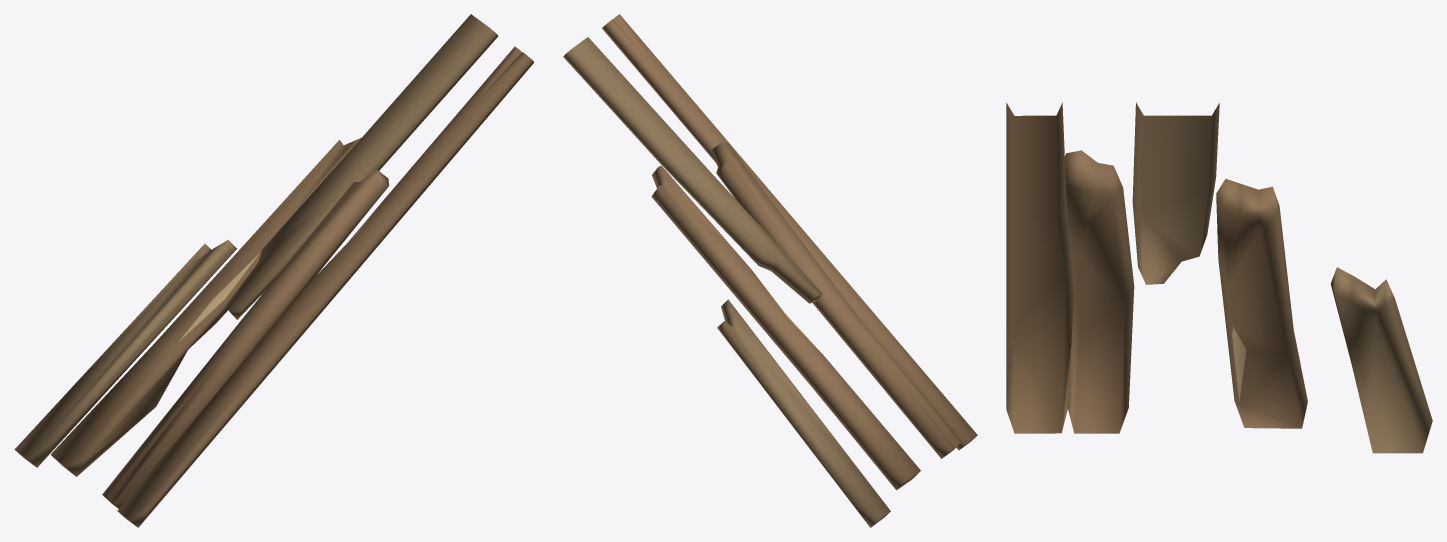
File: rpgpp_av_roof_02_9x4x3_half_d.gltf
The picture shows the model from 3 angles, left to right: view 1: azimuth 30°, elevation 25°; view 2: azimuth 150°, elevation 25°; view 3: azimuth 270°, elevation 25°; orthographic projection. The views are drawn at different scales.
Visible parts, largest first — view 1: rpgpp_av_roof_02_9x4x3_half_d; view 2: rpgpp_av_roof_02_9x4x3_half_d; view 3: rpgpp_av_roof_02_9x4x3_half_d.
Part boxes in pixels (x1,y1,x2,y2): rpgpp_av_roof_02_9x4x3_half_d: (14,14,534,527); rpgpp_av_roof_02_9x4x3_half_d: (563,14,977,527); rpgpp_av_roof_02_9x4x3_half_d: (1006,102,1432,453).
Bounding box in the file's own units: 0.0524 × 0.0481 × 0.0263.
1 material, 1 textured.
